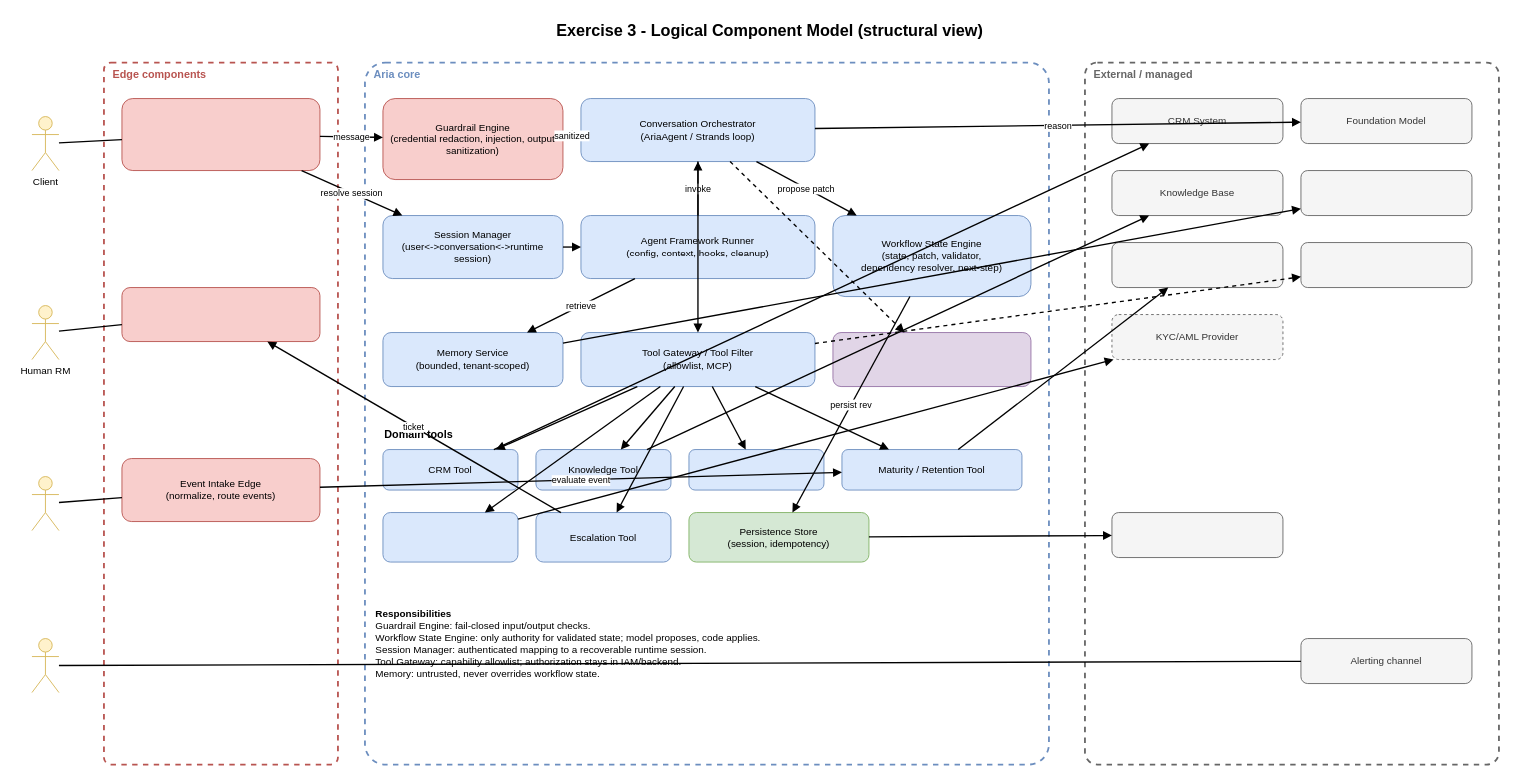
This 1532x780 diagram has some shape labels left out. Here are the shapes that lost their labels. From the top down, the centre of each, then its label:
the point at 220,134: Chat API Edge (REST/WebSocket handler, auth, idempotency)
the point at 1386,193: Long-term Memory Store
the point at 1197,265: Core Banking
the point at 1386,265: Gateway-hosted tools
the point at 220,314: Escalation Notification Edge
the point at 931,359: Observability (redacted logs, traces)
the point at 756,469: Risk Tool
the point at 45,503: Event Source
the point at 450,537: Compliance Tool (KYC / AML)
the point at 1197,535: Durable state DB
the point at 45,665: Ops
